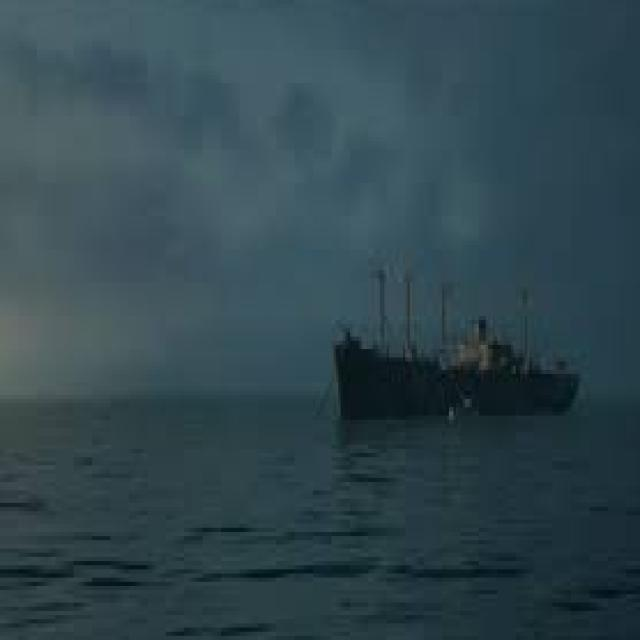cargoship: (325, 261, 583, 426)
